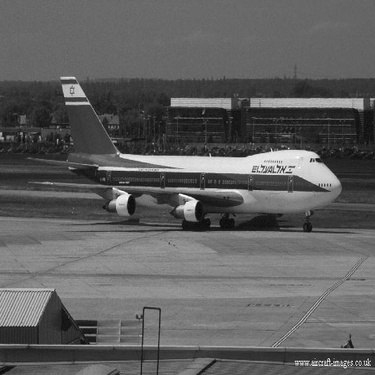airplane: (9, 54, 351, 243)
